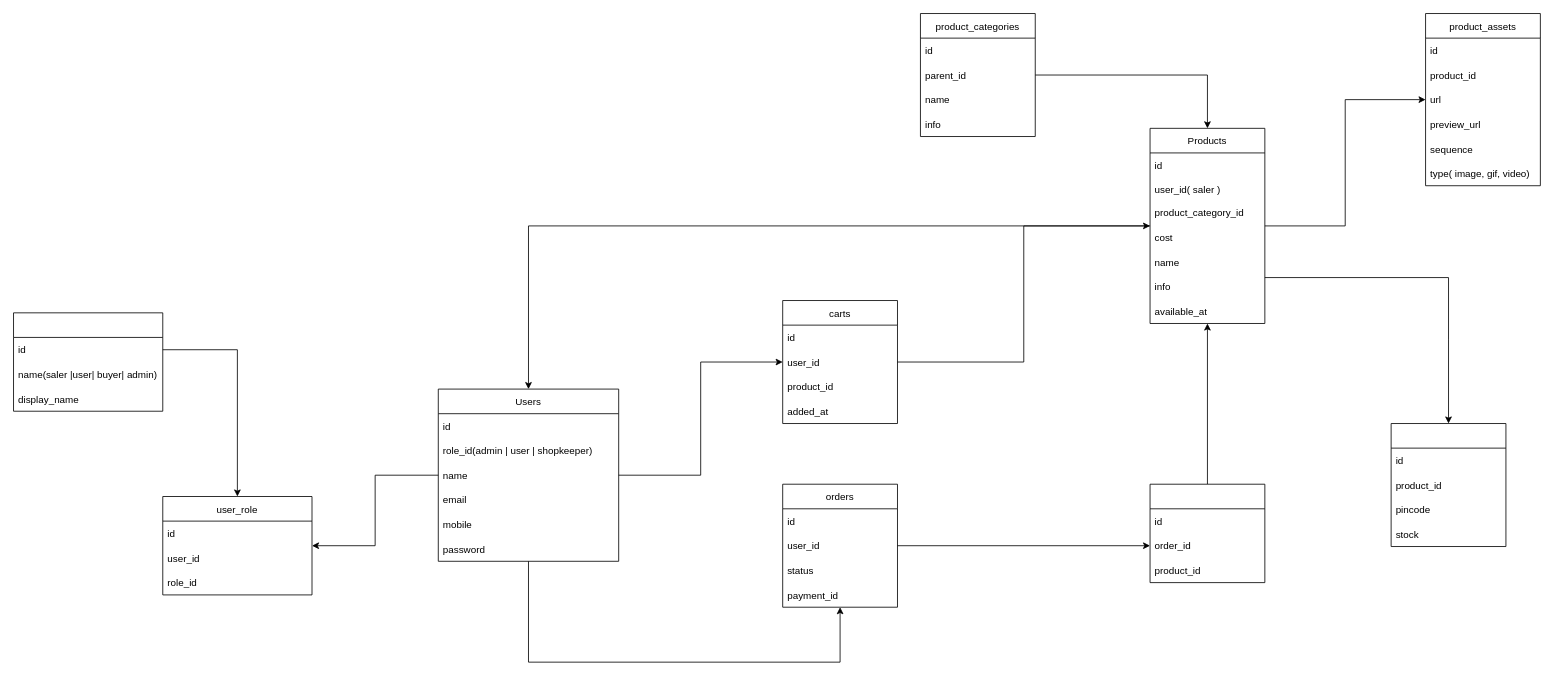
This 1554x676 diagram has some shape labels left out. The box of each missing label's shape, as (x1, y1, x2, y2) in pixels:
order_items: (1149, 483, 1265, 583)
product_stocks: (1390, 423, 1506, 547)
roles: (13, 312, 163, 411)
